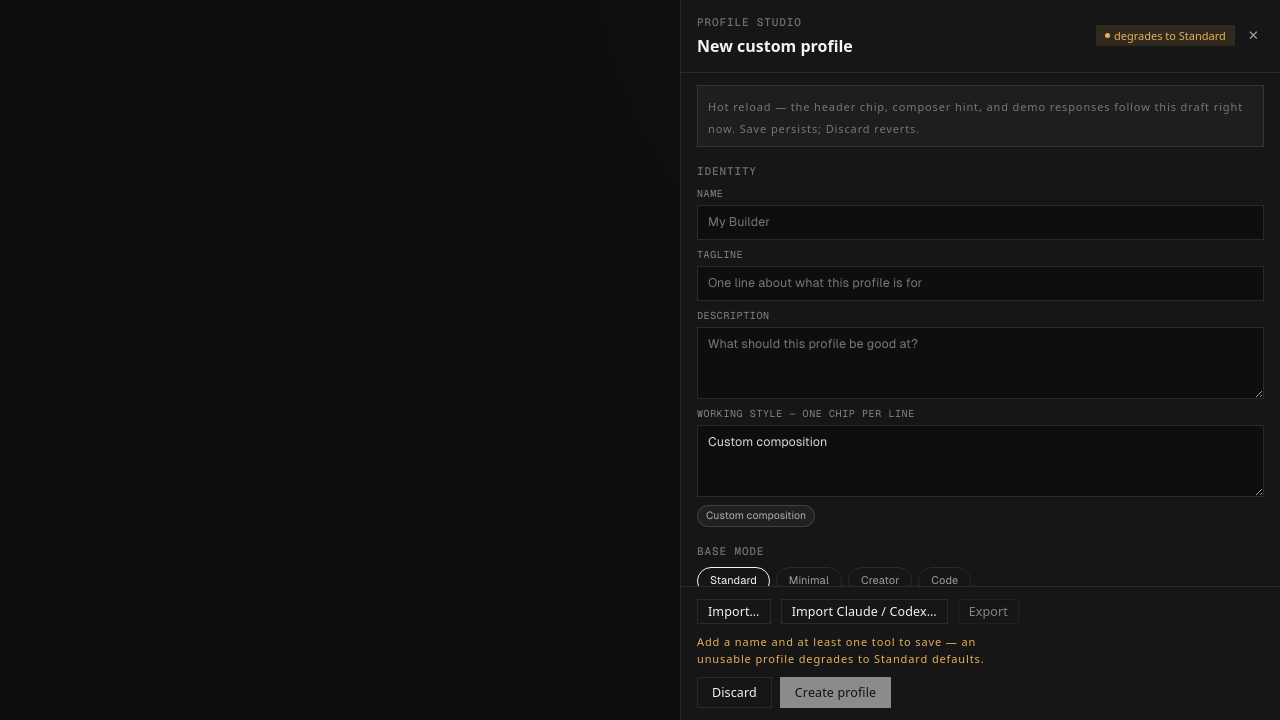
Test case: Profile Studio import › shows a clear error for a malformed import file and never crashes
Expected: the element with test id "profile-studio" is shown, [680,0,1279,719]
Click the button with test id "studio-import" at point(734, 612), box [697,599,771,624]
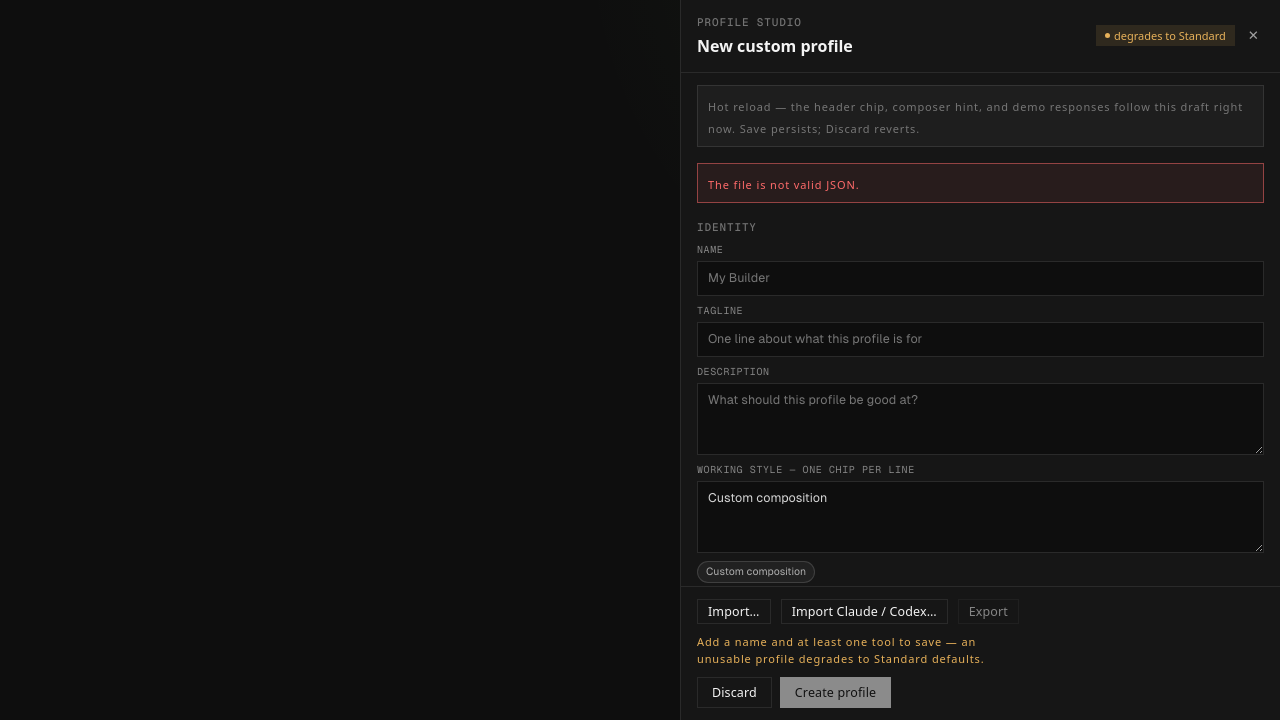
Expected: the element with test id "profile-studio" is shown, [680,0,1279,719]
Result: the message with test id "studio-port-notice" shows "not valid JSON" at [708,176,860,192]
